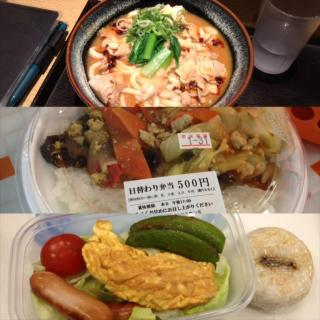tomato: (40, 234, 87, 276)
